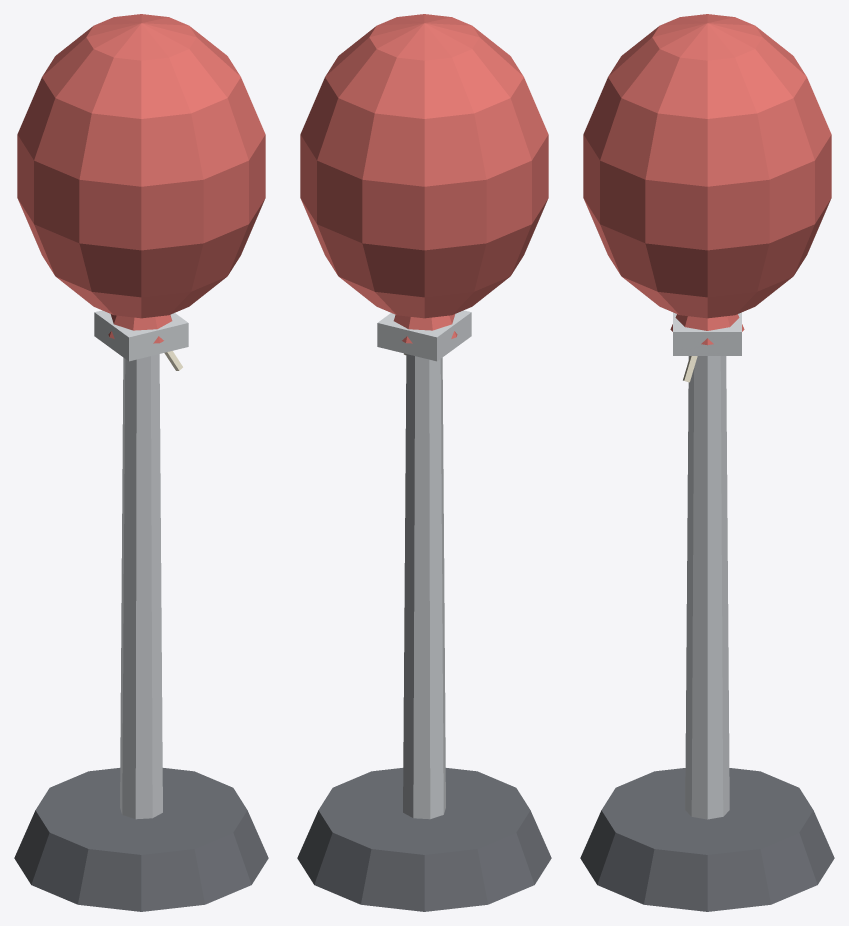
The model's file is hot-air-balloon-festival-pibal-balloon-on-stand-020e1aa0__38504.glb.
3 views of the same model, side by side, from view 1: azimuth 30°, elevation 25°; view 2: azimuth 150°, elevation 25°; view 3: azimuth 270°, elevation 25° (orthographic).
Visible parts, largest first — view 1: pibal-balloon-on-stand-canvasA, pibal-balloon-on-stand-charcoal, pibal-balloon-on-stand-steel; view 2: pibal-balloon-on-stand-canvasA, pibal-balloon-on-stand-charcoal, pibal-balloon-on-stand-steel; view 3: pibal-balloon-on-stand-canvasA, pibal-balloon-on-stand-charcoal, pibal-balloon-on-stand-steel.
Boxes of the visible parts, x1=… form: pibal-balloon-on-stand-canvasA: x1=17, y1=14, x2=265, y2=343; pibal-balloon-on-stand-charcoal: x1=14, y1=768, x2=268, y2=911; pibal-balloon-on-stand-steel: x1=94, y1=310, x2=188, y2=819; pibal-balloon-on-stand-canvasA: x1=300, y1=14, x2=548, y2=343; pibal-balloon-on-stand-charcoal: x1=297, y1=768, x2=551, y2=911; pibal-balloon-on-stand-steel: x1=377, y1=310, x2=471, y2=819; pibal-balloon-on-stand-canvasA: x1=583, y1=14, x2=831, y2=345; pibal-balloon-on-stand-charcoal: x1=580, y1=768, x2=834, y2=911; pibal-balloon-on-stand-steel: x1=673, y1=312, x2=741, y2=819.
Bounding box in the file's own units: 0.48 × 1.74 × 0.48.
